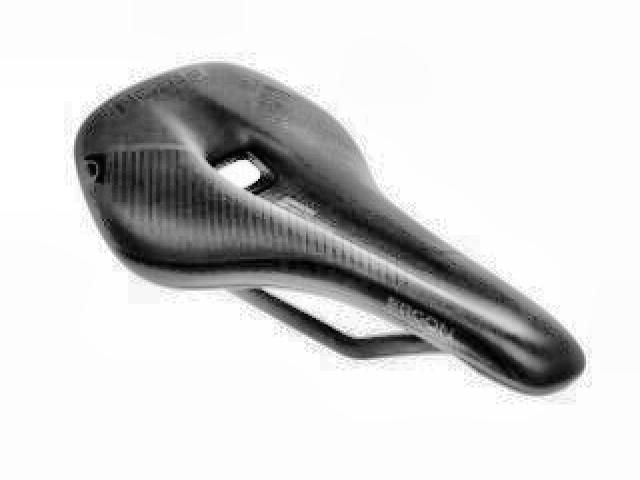saddle: (70, 61, 586, 399)
